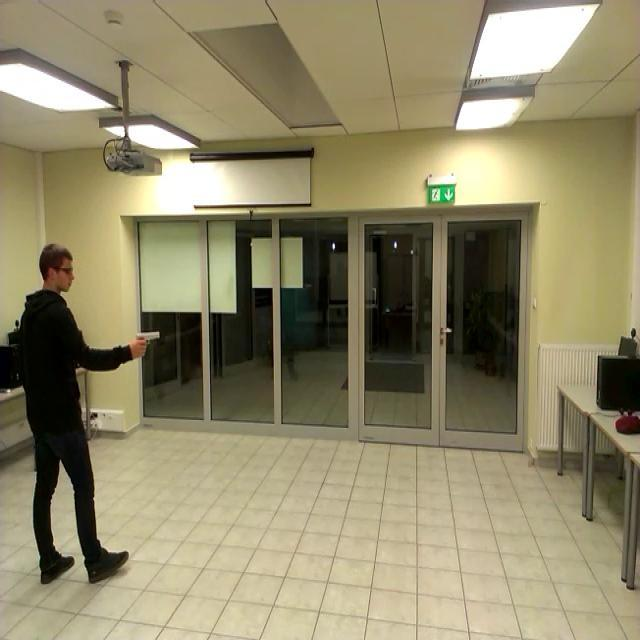Gun: (123, 323, 170, 366)
